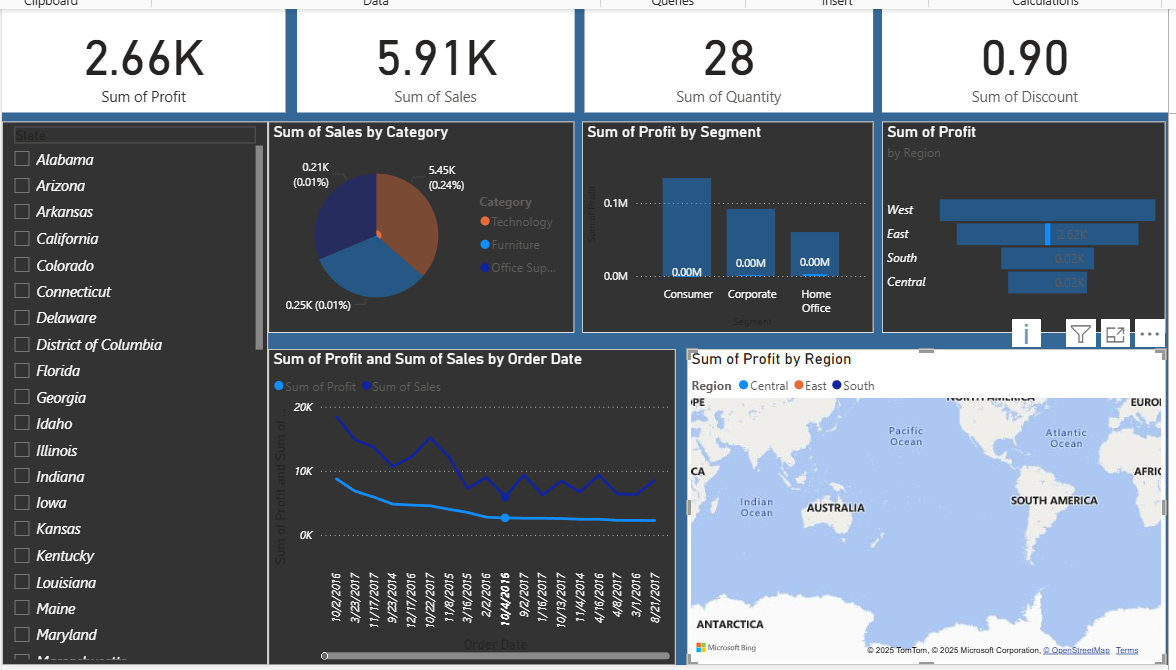

The dashboard page shown, as its layout file describes it:
{"tool":"powerbi","page":{"name":"Page 1","canvas":[1280,720],"ordinal":0},"visuals":[{"type":"card","fields":{"Values":["Sum(Sample - Superstore.Profit)"]},"box":[0,0,321.1,104.3],"z":0},{"type":"card","fields":{"Values":["Sum(Sample - Superstore.Sales)"]},"box":[333.4,0,319.7,104.3],"z":1000},{"type":"card","fields":{"Values":["Sum(Sample - Superstore.Quantity)"]},"box":[665.5,0,296.4,101.5],"z":2000},{"type":"card","fields":{"Values":["Sum(Sample - Superstore.Discount)"]},"box":[974.3,0,306,101.5],"z":3000},{"type":"slicer","fields":{"Values":["Sample - Superstore.City"]},"box":[0,116.6,256.6,603.8],"z":4000},{"type":"pieChart","fields":{"Y":["Sum(Sample - Superstore.Sales)"],"Category":["Sample - Superstore.Category"]},"box":[270.3,118,336.2,286.8],"z":5000},{"type":"clusteredColumnChart","fields":{"Y":["Sum(Sample - Superstore.Profit)"],"Category":["Sample - Superstore.Segment"]},"box":[621.6,118,321.1,286.8],"z":6000},{"type":"lineChart","fields":{"Y":["Sum(Sample - Superstore.Profit)","Sum(Sample - Superstore.Sales)"],"Category":["Sample - Superstore.Order Date"]},"box":[269,418.5,477.5,301.9],"z":7000},{"type":"funnel","fields":{"Y":["Sum(Sample - Superstore.Profit)"],"Category":["Sample - Superstore.Region"]},"box":[961.9,116.6,303.3,288.2],"z":8000},{"type":"filledMap","fields":{"Series":["Sample - Superstore.Region"]},"box":[761.6,418.5,518.7,301.9],"z":9000}]}

Visuals, with their boxes in screenshot pixels (x1, y1, x2, y2):
card - Sum(Sample - Superstore.Profit): 21/12/312/107
card - Sum(Sample - Superstore.Sales): 324/12/613/107
card - Sum(Sample - Superstore.Quantity): 624/12/893/104
card - Sum(Sample - Superstore.Discount): 904/12/1175/104
slicer - Sample - Superstore.City: 21/118/254/665
pieChart - Sum(Sample - Superstore.Sales) x Sample - Superstore.Category: 266/119/571/379
clusteredColumnChart - Sum(Sample - Superstore.Profit) x Sample - Superstore.Segment: 585/119/876/379
lineChart - Sum(Sample - Superstore.Profit) x Sum(Sample - Superstore.Sales): 265/391/698/665
funnel - Sum(Sample - Superstore.Profit) x Sample - Superstore.Region: 893/118/1168/379
filledMap - Sample - Superstore.Region: 711/391/1175/665
